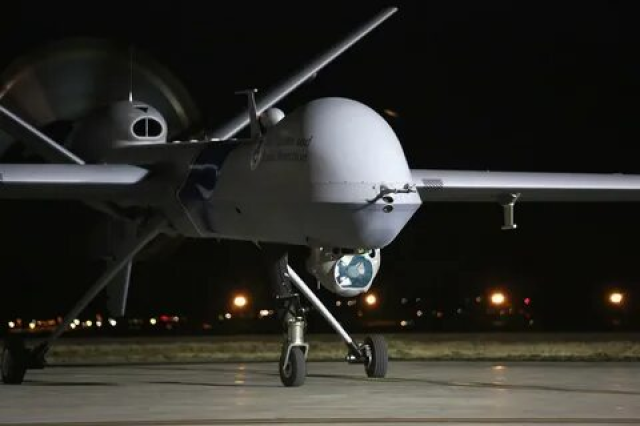military drone: (0, 6, 640, 387)
